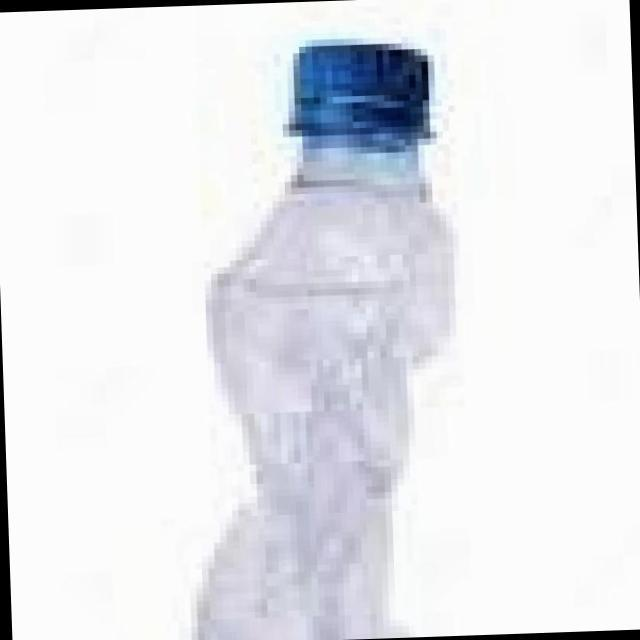defected: (153, 26, 470, 640)
